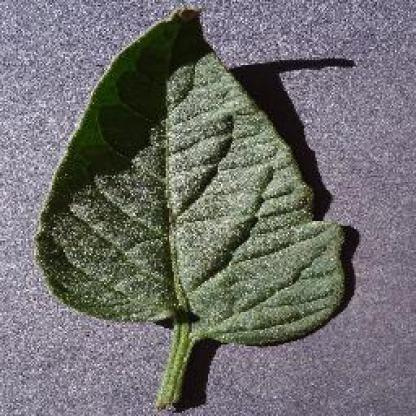bad leaf: (33, 1, 375, 411)
